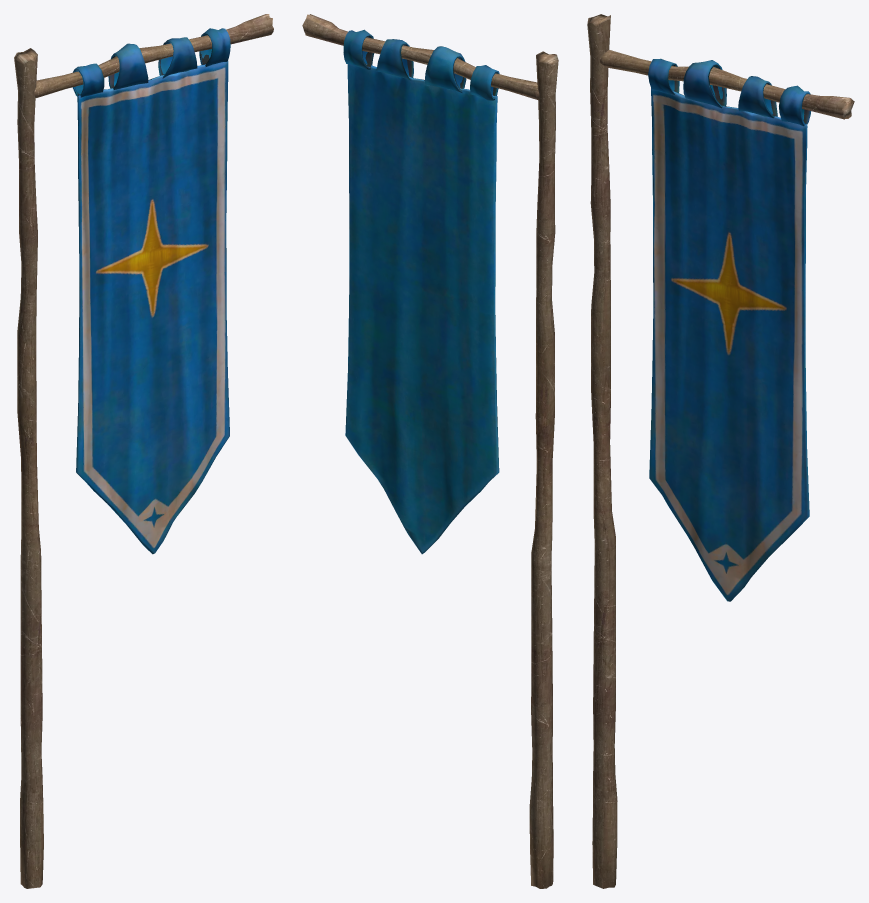
3 views of the same model, side by side, from view 1: azimuth 30°, elevation 25°; view 2: azimuth 150°, elevation 25°; view 3: azimuth 330°, elevation 25° (orthographic). The views are drawn at different scales.
Parts seen in each view (by area): view 1: SM_Single_Banner_Saradomin_02v2_LOD0; view 2: SM_Single_Banner_Saradomin_02v2_LOD0; view 3: SM_Single_Banner_Saradomin_02v2_LOD0.
Part boxes in pixels (left/top/right/bottom): SM_Single_Banner_Saradomin_02v2_LOD0: left=14, top=14, right=273, bottom=888; SM_Single_Banner_Saradomin_02v2_LOD0: left=302, top=14, right=558, bottom=888; SM_Single_Banner_Saradomin_02v2_LOD0: left=587, top=14, right=854, bottom=888.
Bounding box in the file's own units: 1.39 × 4.39 × 0.1565.
Materials: 2 (2 with a texture image).
